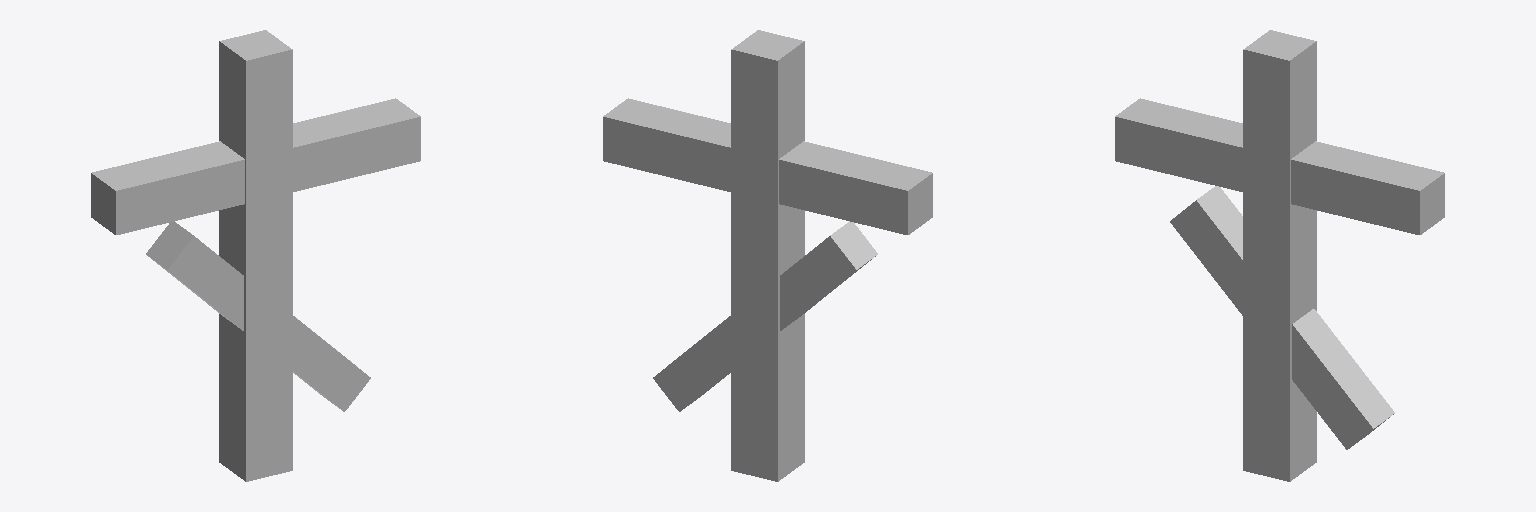
Rendered from player.obj.
The picture shows the model from 3 angles: view 1: azimuth 30°, elevation 25°; view 2: azimuth 150°, elevation 25°; view 3: azimuth 330°, elevation 25°; orthographic projection.
Visible parts, largest first — view 1: Cube_Cube.001; view 2: Cube_Cube.001; view 3: Cube_Cube.001.
Part boxes in pixels (left/top/right/bottom): Cube_Cube.001: left=91, top=30, right=420, bottom=481; Cube_Cube.001: left=603, top=30, right=932, bottom=481; Cube_Cube.001: left=1115, top=30, right=1444, bottom=481.
Bounding box in the file's own units: 1.52 × 2 × 0.2309.